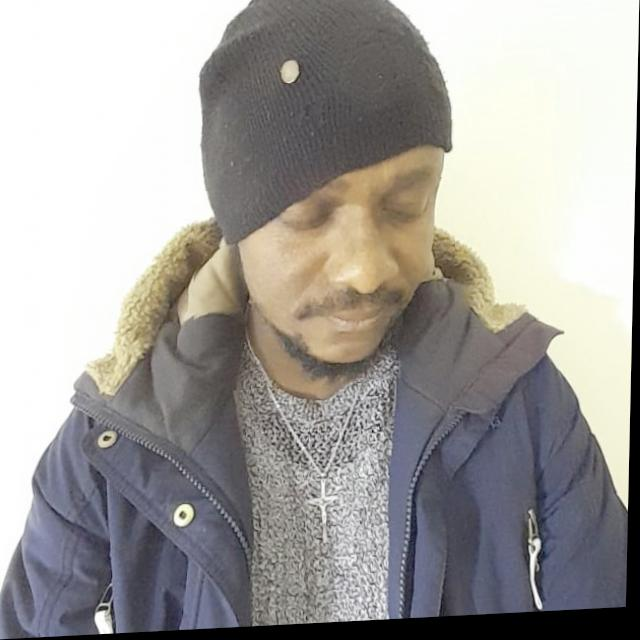sad: (189, 0, 460, 394)
